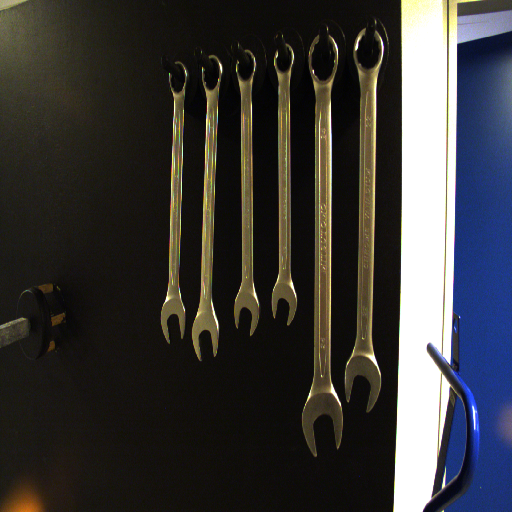bottom: (298, 390, 345, 463), (342, 347, 384, 413), (230, 285, 260, 337), (190, 311, 220, 362), (268, 282, 299, 327), (158, 296, 186, 345)
top: (306, 31, 342, 86), (349, 25, 387, 74), (198, 52, 224, 94), (233, 46, 260, 86), (162, 60, 191, 97), (270, 42, 295, 74)
